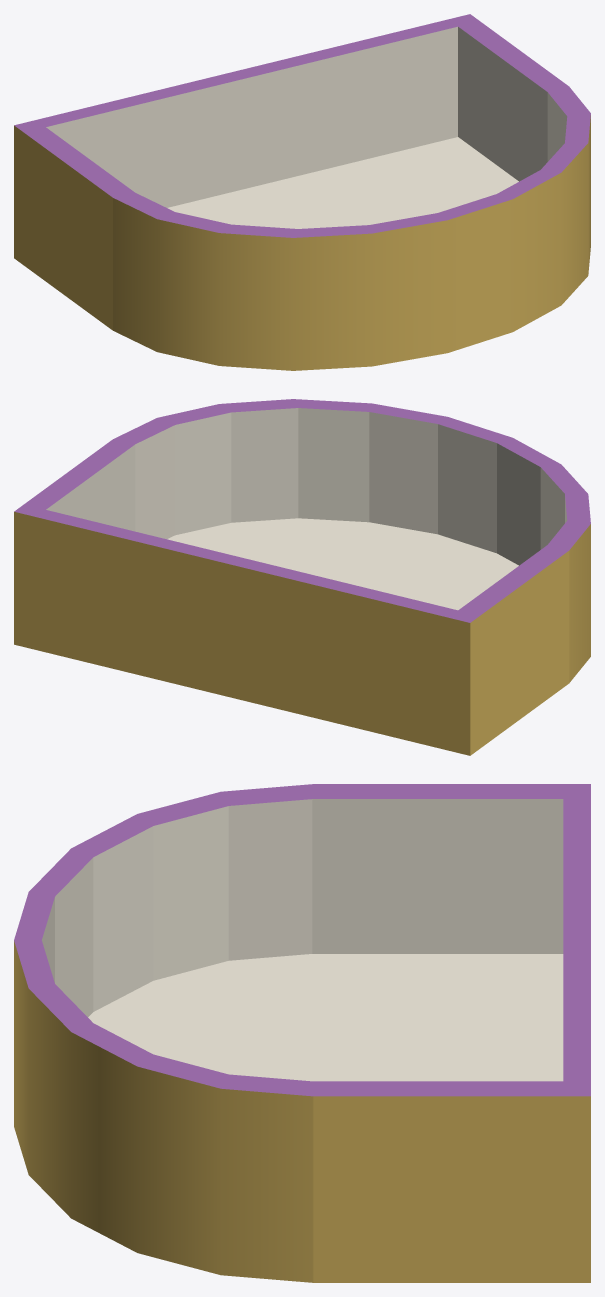
File: CheckOut.fbx
3 renders of one model, top to bottom at view 1: azimuth 30°, elevation 25°; view 2: azimuth 150°, elevation 25°; view 3: azimuth 270°, elevation 25°, orthographic. The views are drawn at different scales.
Parts seen in each view (by area): view 1: polySurface150; view 2: polySurface150; view 3: polySurface150.
Part boxes in pixels (left/top/right/bottom): polySurface150: left=14, top=14, right=590, bottom=370; polySurface150: left=14, top=399, right=590, bottom=755; polySurface150: left=14, top=784, right=590, bottom=1282.
Bounding box in the file's own units: 128 × 35.54 × 99.64.
1 material, 1 textured.
